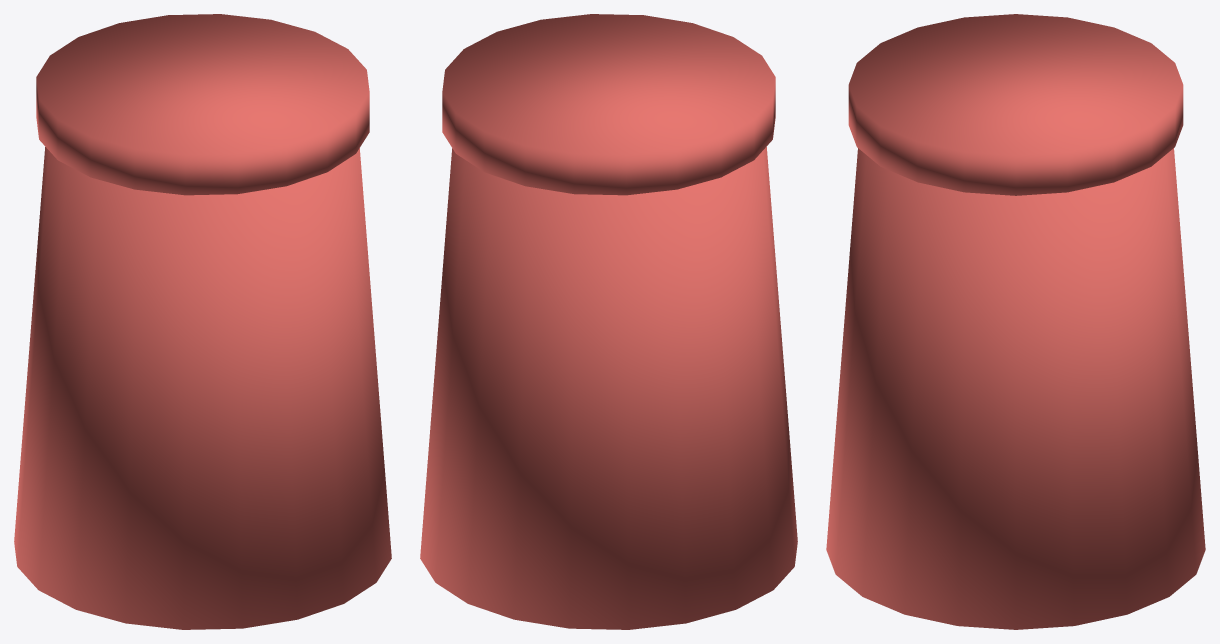
The model's file is plastic_stool.glb.
The picture shows the model from 3 angles, left to right: view 1: azimuth 30°, elevation 25°; view 2: azimuth 150°, elevation 25°; view 3: azimuth 270°, elevation 25°; orthographic projection.
Parts seen in each view (by area): view 1: plastic_stool; view 2: plastic_stool; view 3: plastic_stool.
Boxes of the visible parts, x1,y1,x2,y2 form: plastic_stool: [14, 14, 391, 629]; plastic_stool: [420, 14, 797, 629]; plastic_stool: [826, 14, 1205, 629].
Size of the model in its own units: 0.34 by 0.46 by 0.34.
